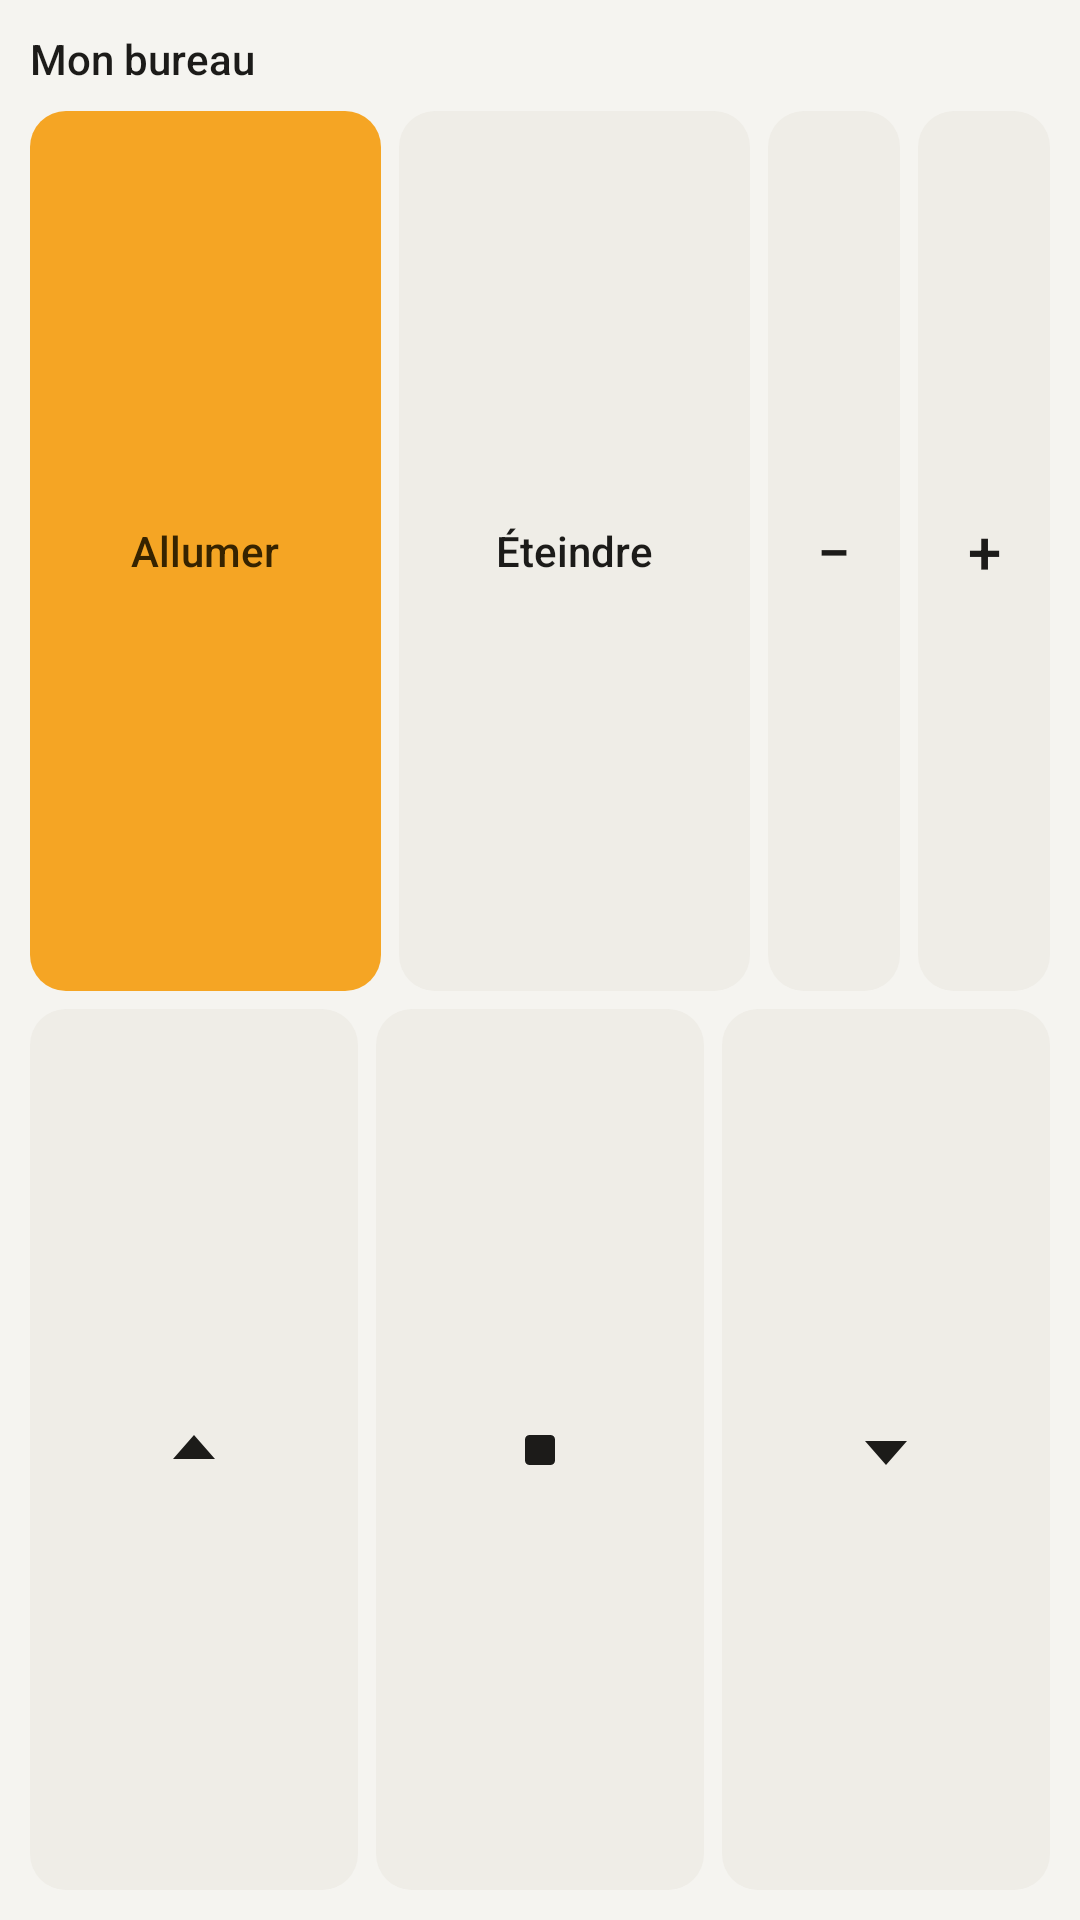

Screen size 1080px x 1920px. Icon name, then its center in pixels as point (x, y):
Arrêter les stores: point (540, 1450)
down: point (886, 1453)
